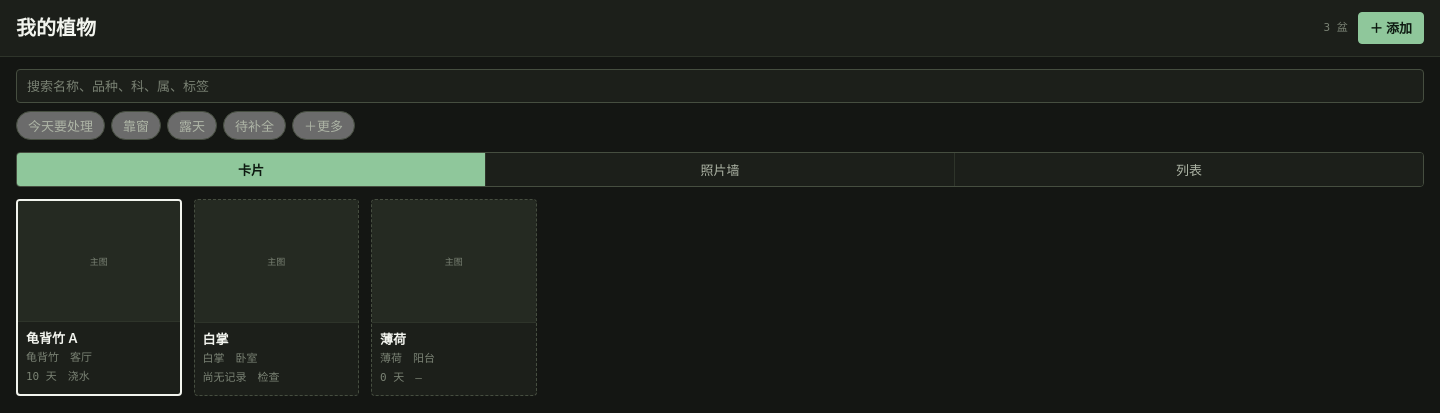
Test: 更多筛选抽屉 › 清除全部恢复
The width and height of the screenshot is (1440, 413).
Type "薄荷" into the search field named "搜索植物". click: (720, 86)
box: [16,69,1424,103]
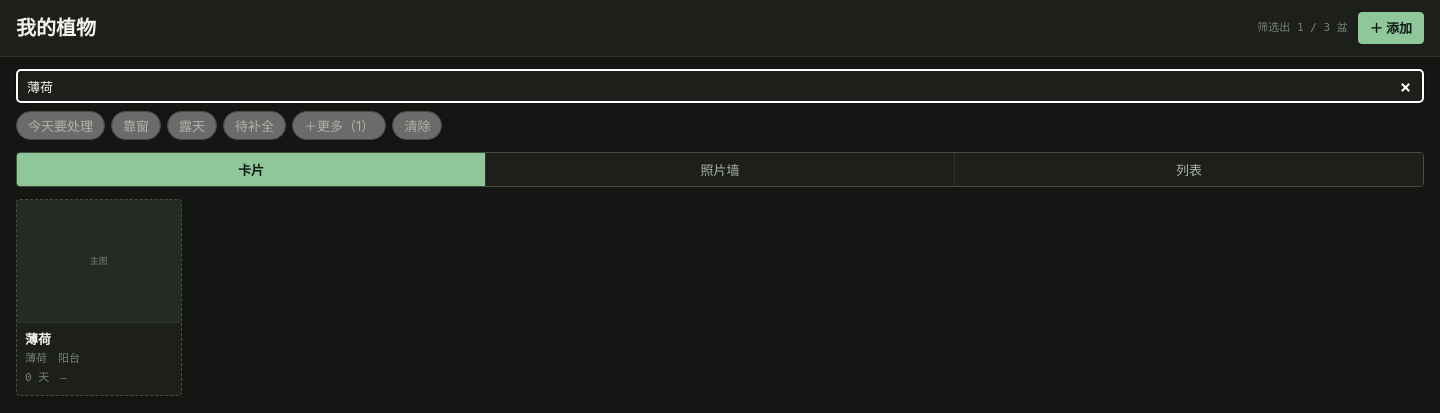
Click the button "清除". click: (417, 126)
box: [392,111,442,140]
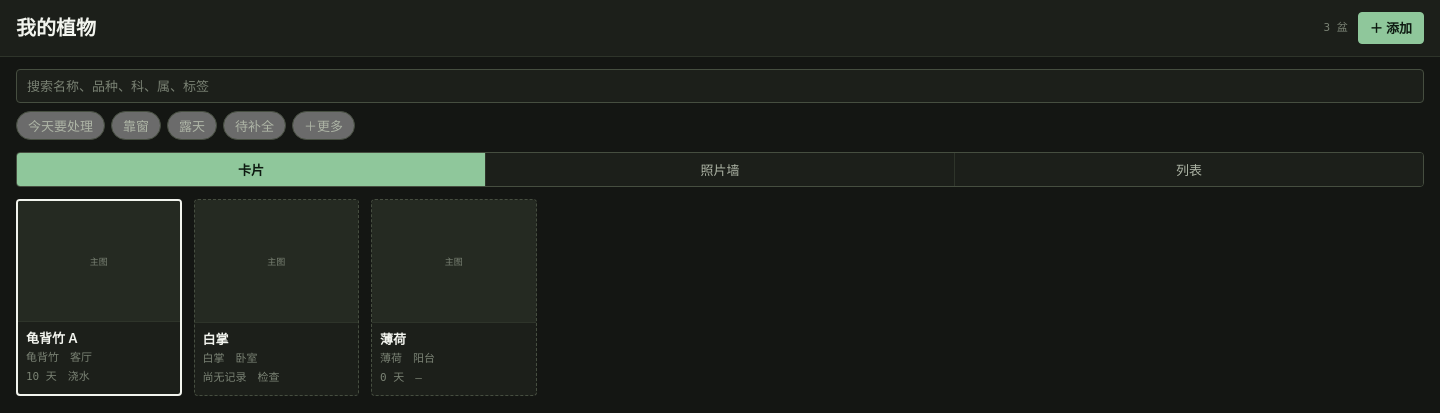
Expected: the text "龟背竹 A" is shown, [26,330,78,346]
Expected: the text "白掌" is shown, [202,331,228,347]
